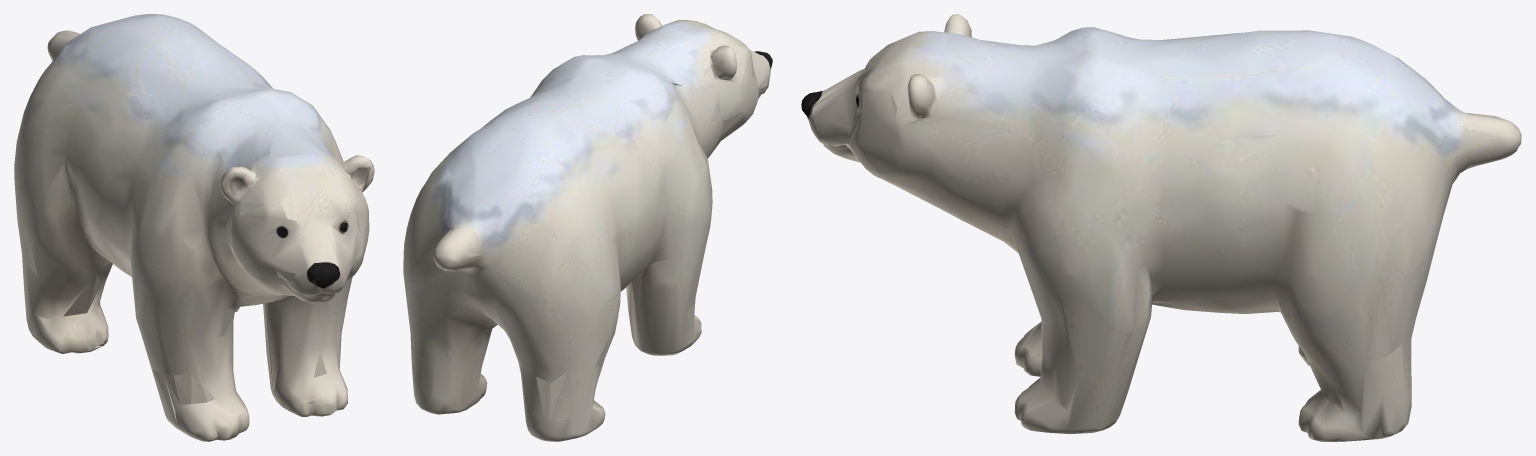
Rendered from polar-bear-low.glb.
The picture shows the model from 3 angles, left to right: view 1: azimuth 30°, elevation 25°; view 2: azimuth 150°, elevation 25°; view 3: azimuth 270°, elevation 25°; orthographic projection. The views are drawn at different scales.
Parts seen in each view (by area): view 1: Body, LegFL, LegFR, LegBR; view 2: Body, LegBR, LegBL, LegFR; view 3: Body, LegBL, LegFL, LegFR.
Part boxes in pixels (<box>): Body: <box>14,14,374,372</box>; LegFL: <box>263,284,350,416</box>; LegFR: <box>136,317,249,441</box>; LegBR: <box>22,243,129,354</box>; Body: <box>403,14,772,372</box>; LegBR: <box>511,289,623,441</box>; LegBL: <box>410,321,497,414</box>; LegFR: <box>626,268,701,355</box>; Body: <box>801,14,1521,377</box>; LegBL: <box>1152,299,1414,441</box>; LegFL: <box>1014,300,1157,434</box>; LegFR: <box>1014,322,1042,376</box>.
Size of the model in its own units: 0.7429 by 1 by 1.85.
Materials: 1 (1 with a texture image).
